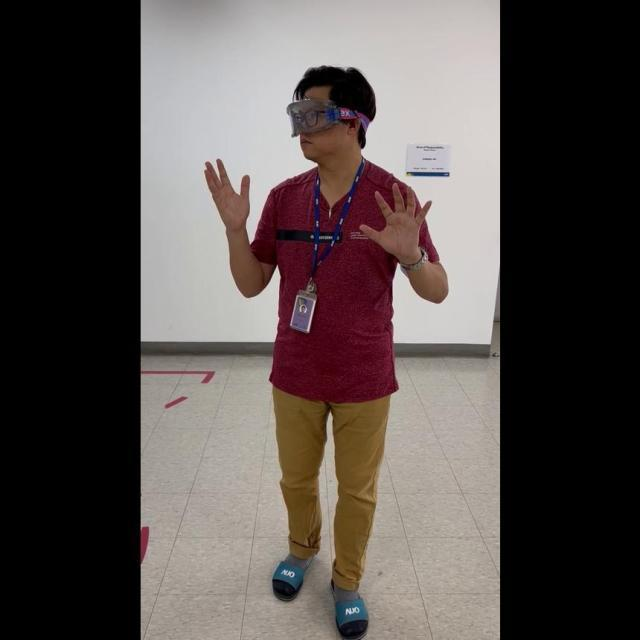bare_hand: (356, 179, 433, 258), (202, 153, 251, 231)
